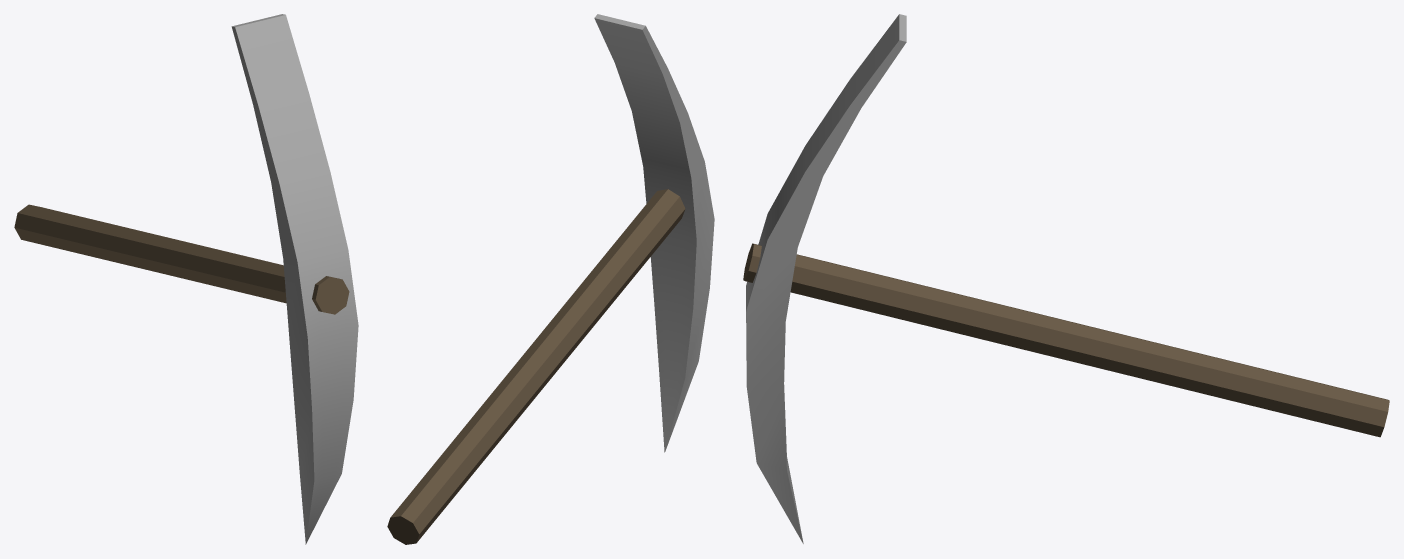
File: pickaxe.fbx
The picture shows the model from 3 angles, left to right: view 1: azimuth 30°, elevation 25°; view 2: azimuth 150°, elevation 25°; view 3: azimuth 270°, elevation 25°; orthographic projection. The views are drawn at different scales.
Visible parts, largest first — view 1: pCube1, pCylinder1; view 2: pCube1, pCylinder1; view 3: pCylinder1, pCube1.
Part boxes in pixels (x1,y1,x2,y2): pCube1: (231,14,358,544); pCylinder1: (14,204,349,314); pCube1: (594,14,714,452); pCylinder1: (387,189,685,544); pCylinder1: (743,243,1389,437); pCube1: (746,14,906,543).
Size of the model in its own units: 7.52 by 69.39 by 78.52.
